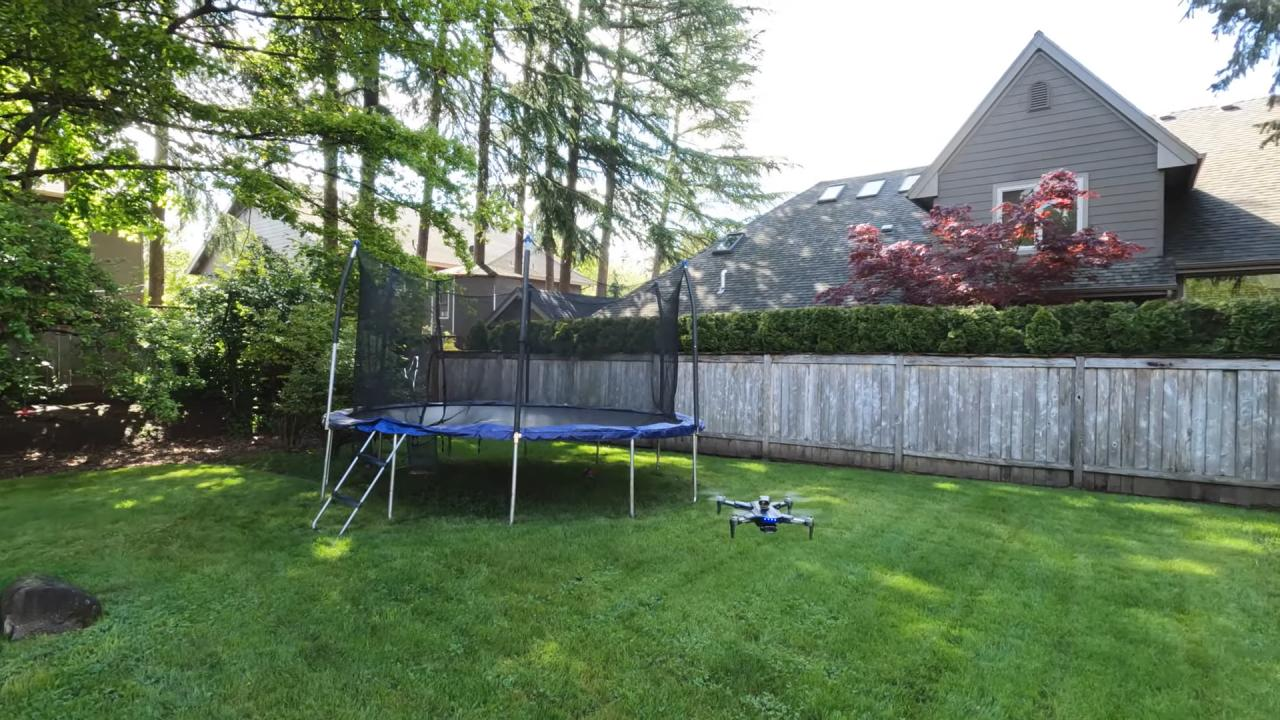Drone: (705, 483, 824, 550)
